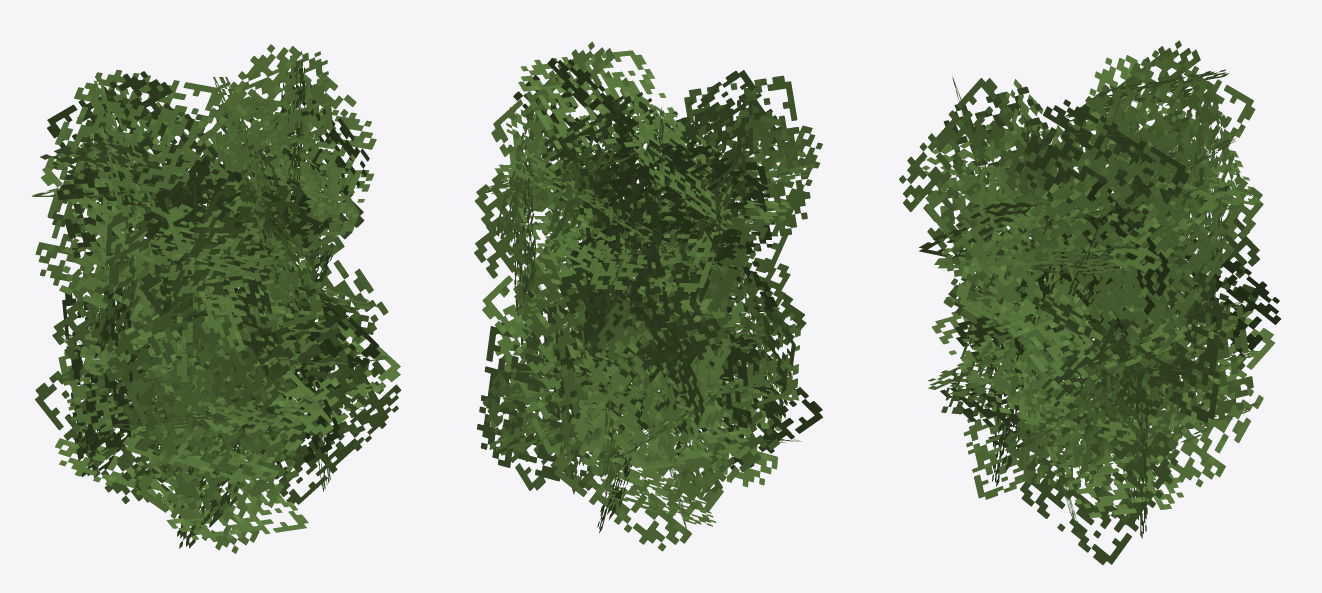
File: BigBush4.fbx
3 views of the same model, side by side, from view 1: azimuth 30°, elevation 25°; view 2: azimuth 150°, elevation 25°; view 3: azimuth 270°, elevation 25° (orthographic).
Parts seen in each view (by area): view 1: BigBush4; view 2: BigBush4; view 3: BigBush4.
Part boxes in pixels (box(x1,y1,x2,y2)): BigBush4: box(32, 44, 401, 553); BigBush4: box(474, 41, 822, 551); BigBush4: box(899, 40, 1280, 564).
Bounding box in the file's own units: 182 × 246 × 198.
